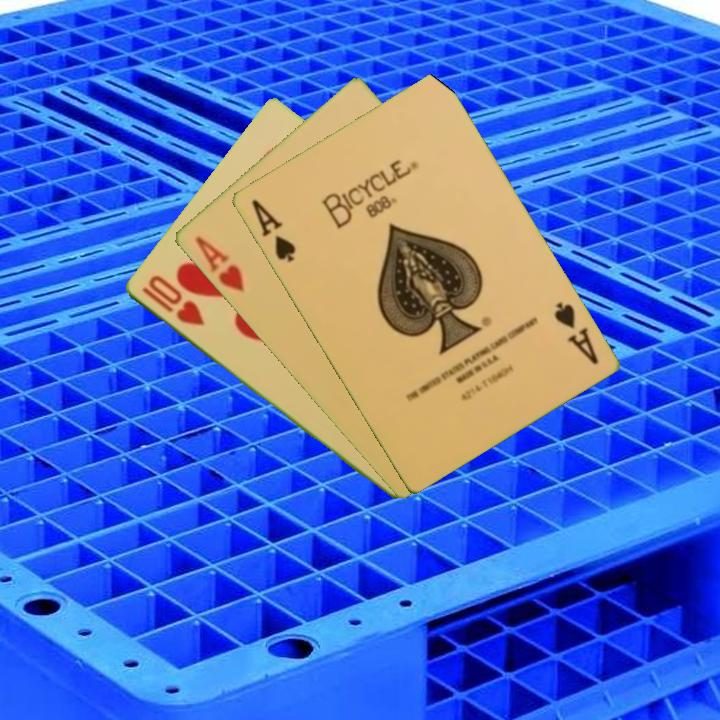10h: (137, 271, 207, 329)
Ah: (190, 233, 247, 295)
As: (247, 195, 299, 265), (550, 298, 601, 368)
